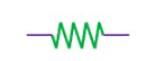resistor: (47, 18, 114, 52)
